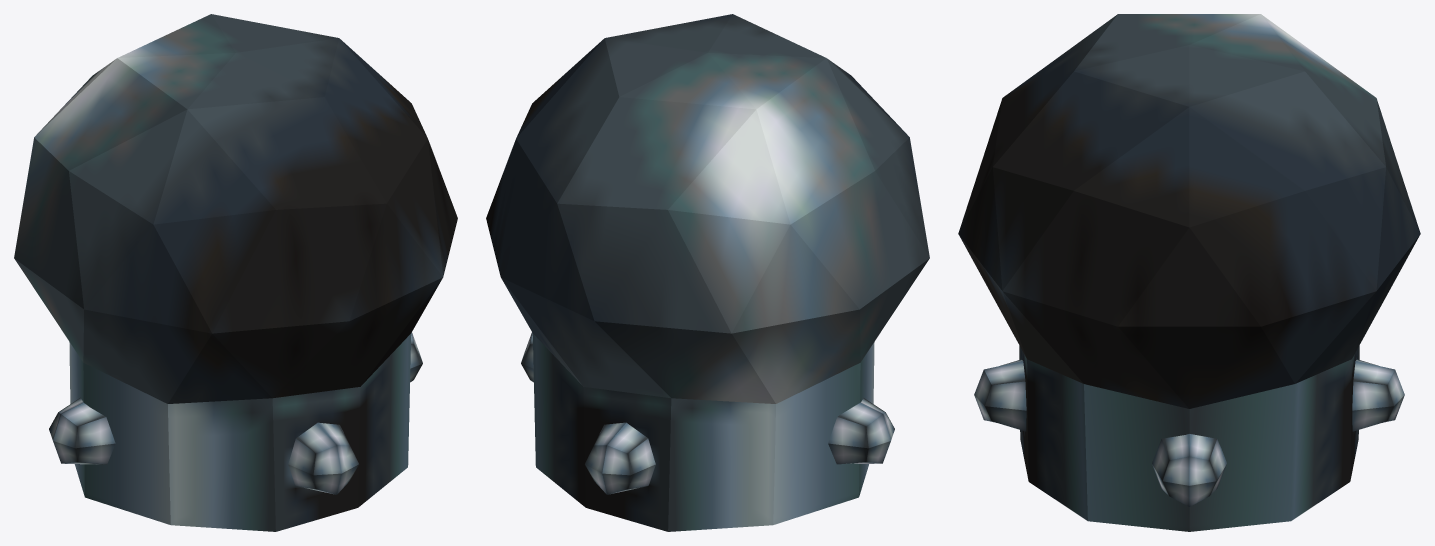
The model's file is Poly_Mooring_Pole_01.obj.
3 views of the same model, side by side, from view 1: azimuth 30°, elevation 25°; view 2: azimuth 150°, elevation 25°; view 3: azimuth 270°, elevation 25° (orthographic).
Parts seen in each view (by area): view 1: Icosphere, Icosphere.002, Icosphere.001; view 2: Icosphere, Icosphere.002, Icosphere.001; view 3: Icosphere, Icosphere.002, Icosphere.001.
Part boxes in pixels (<box>): Icosphere: <box>14,14,457,531</box>; Icosphere.002: <box>288,422,358,494</box>; Icosphere.001: <box>49,332,422,464</box>; Icosphere: <box>486,14,929,531</box>; Icosphere.002: <box>585,422,655,494</box>; Icosphere.001: <box>521,332,894,464</box>; Icosphere: <box>958,14,1420,531</box>; Icosphere.002: <box>974,359,1404,431</box>; Icosphere.001: <box>1152,434,1226,506</box>.
Bounding box in the file's own units: 0.5197 × 0.5417 × 0.5464.
1 material, 1 textured.
